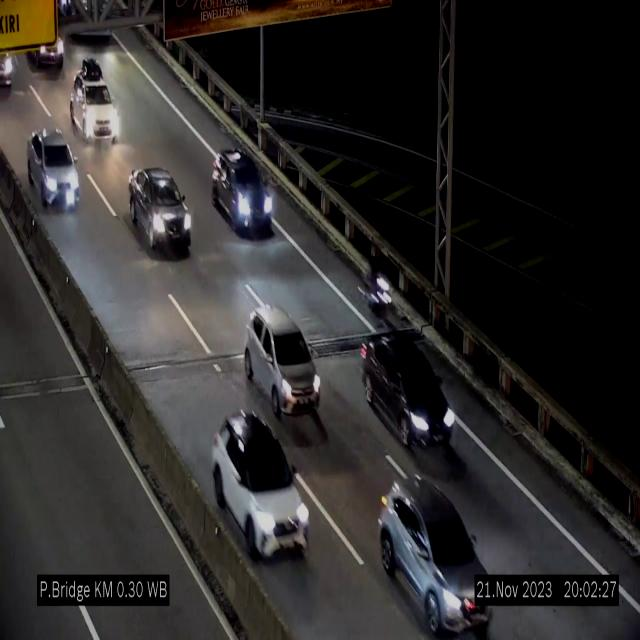Car: (379, 476, 491, 638), (212, 412, 310, 558), (362, 327, 454, 446), (243, 300, 323, 420), (129, 168, 191, 258), (211, 149, 275, 235), (27, 129, 79, 210), (70, 60, 120, 142)
Motorcycle: (367, 241, 393, 331)
